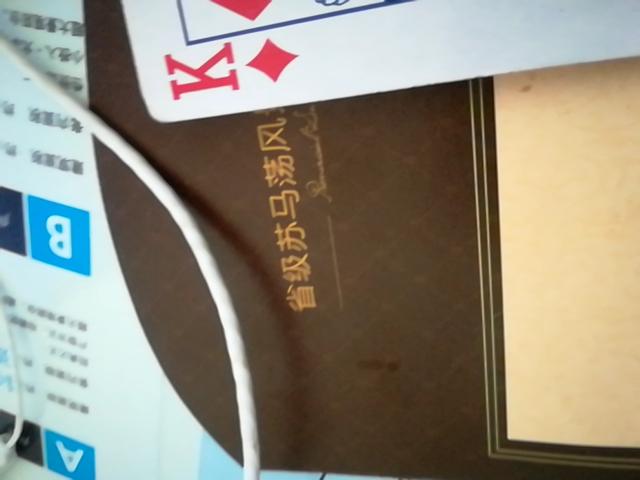fk k: (69, 0, 634, 122)
